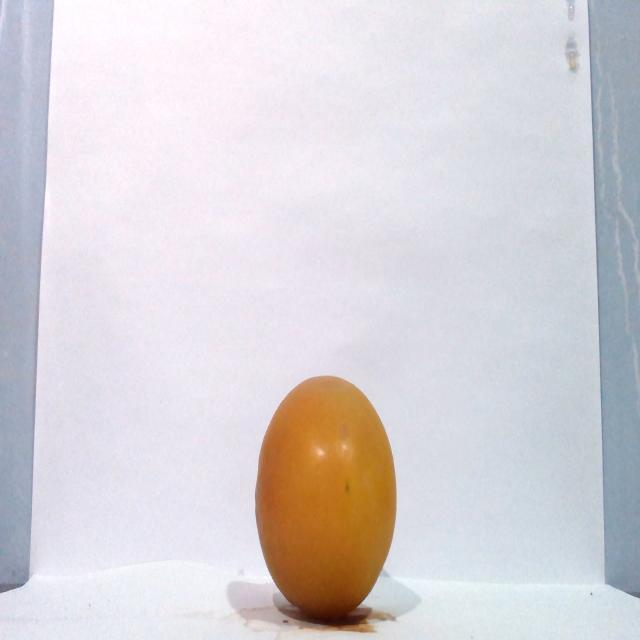Red: (253, 373, 398, 620)
